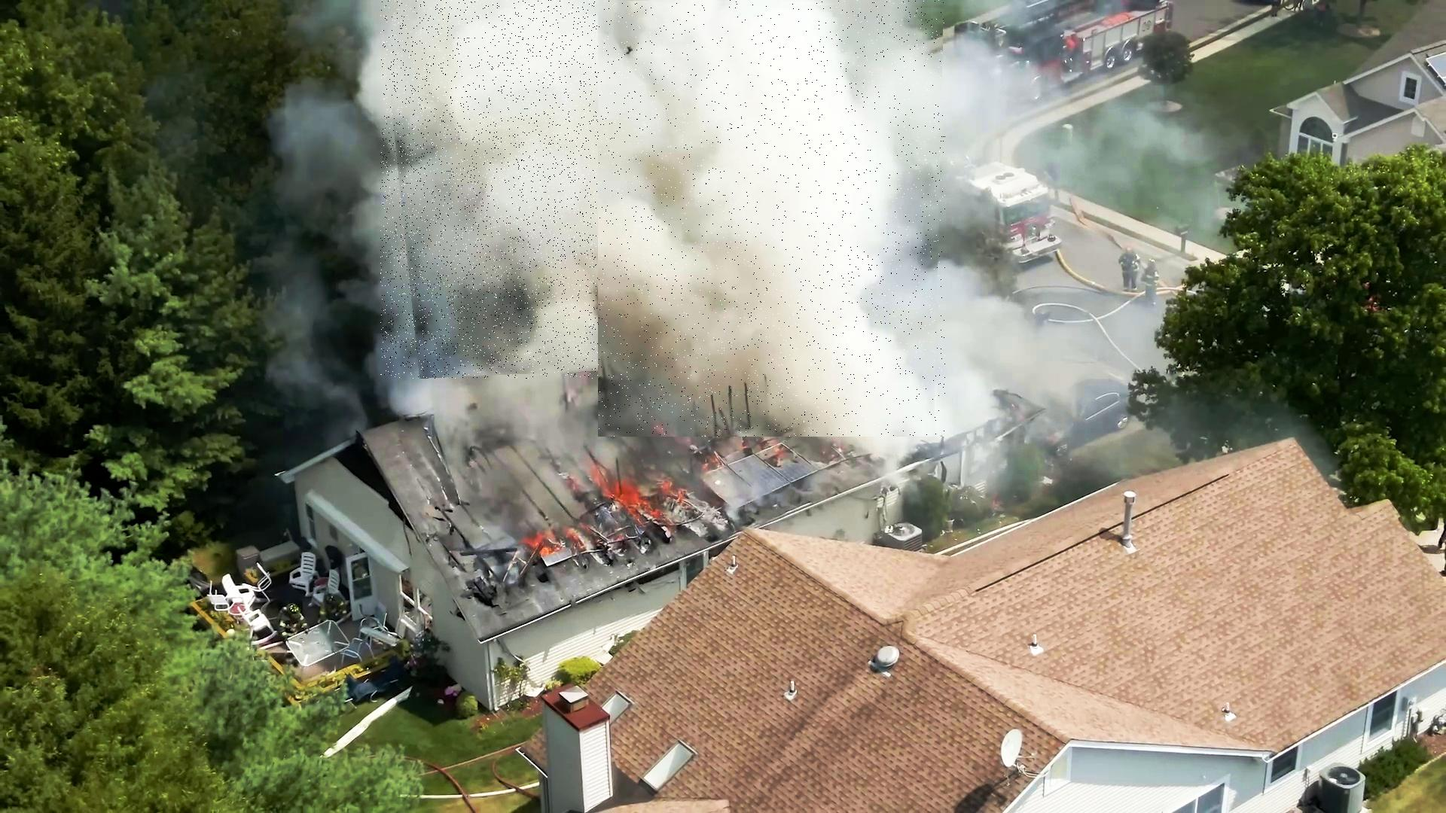smoke: (599, 0, 946, 437), (381, 0, 668, 379)
